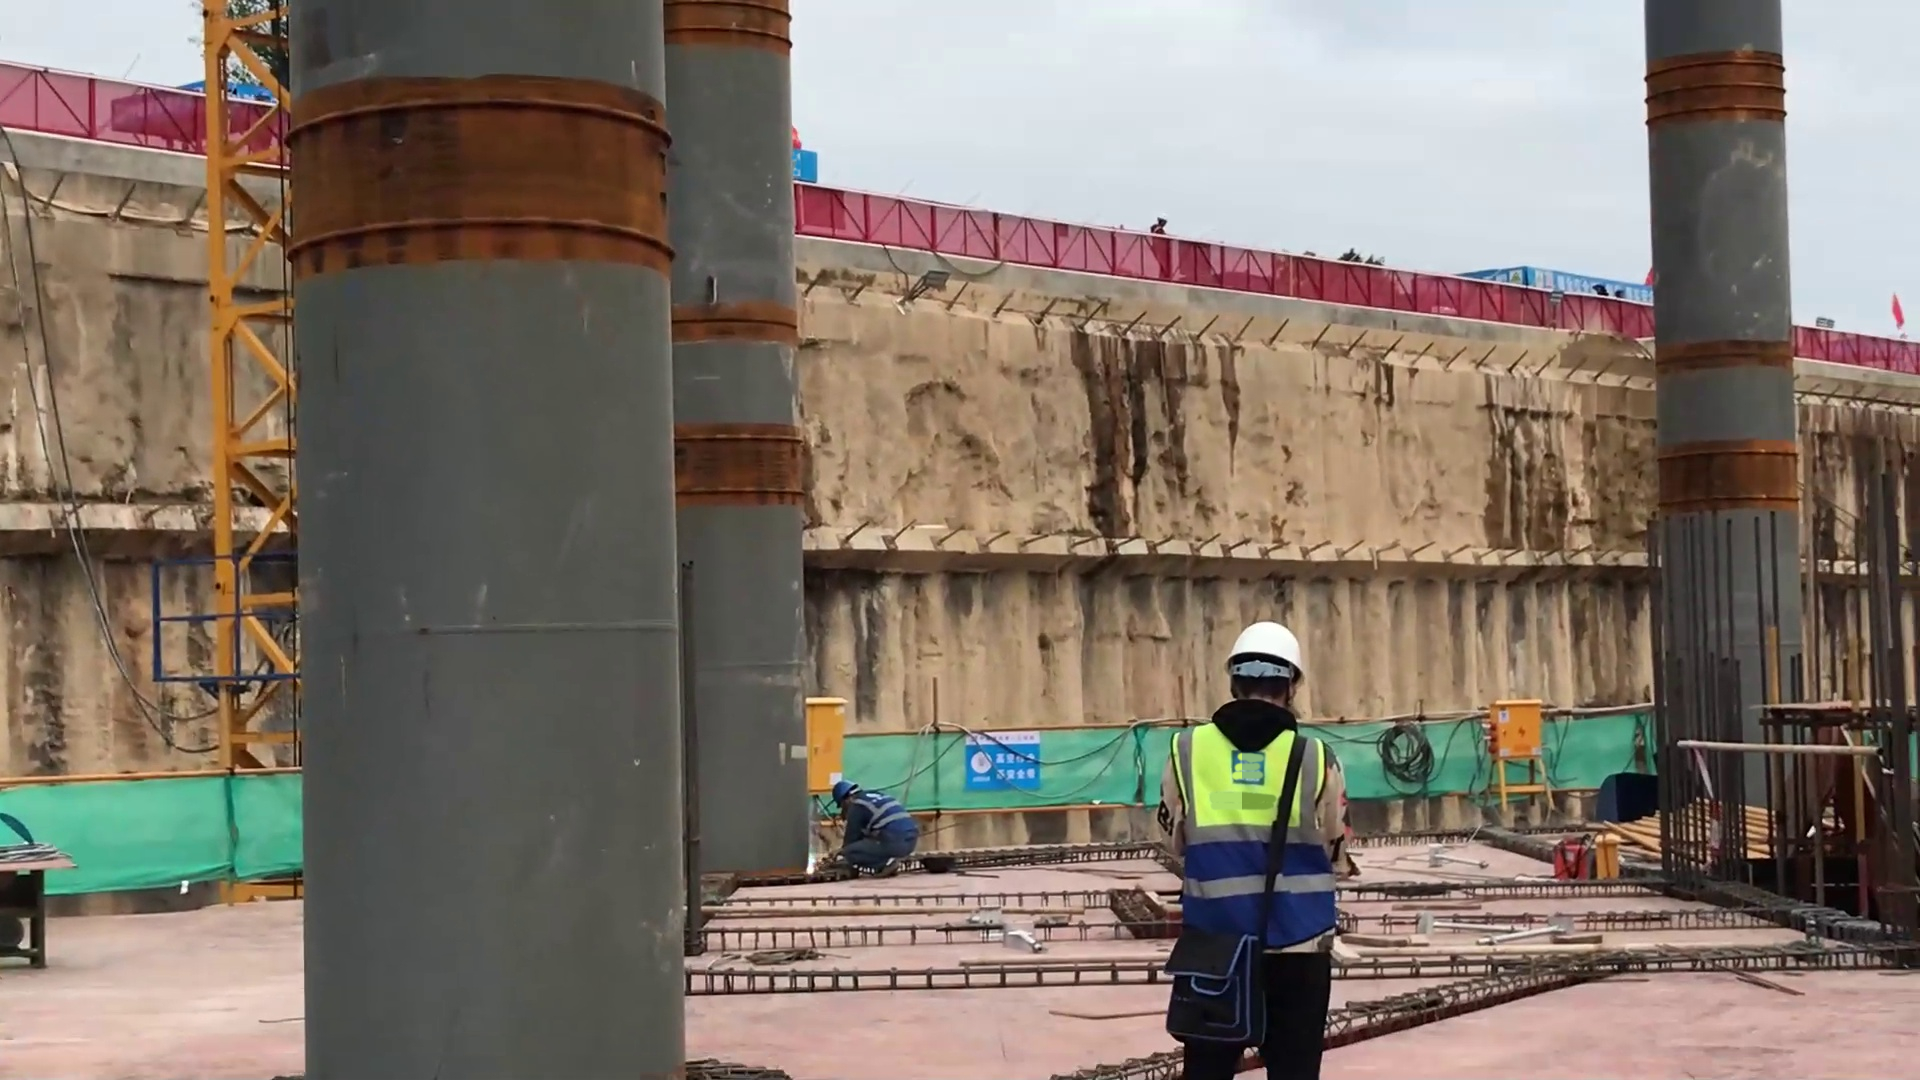ebox: (1480, 664, 1569, 833), (803, 687, 853, 810)
fence: (800, 154, 1656, 364), (3, 42, 207, 168), (1803, 309, 1917, 393)
helmet: (1231, 614, 1306, 696), (832, 777, 863, 808)
person: (1154, 619, 1336, 1077), (833, 780, 928, 868)
slogan: (1443, 233, 1665, 348), (946, 713, 1098, 825)
vest: (1162, 704, 1339, 965), (854, 790, 922, 844)
